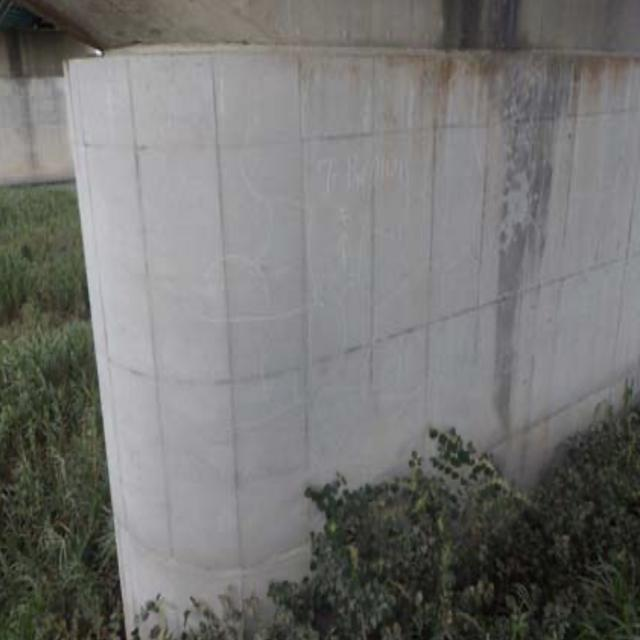leakage: (474, 60, 560, 407)
